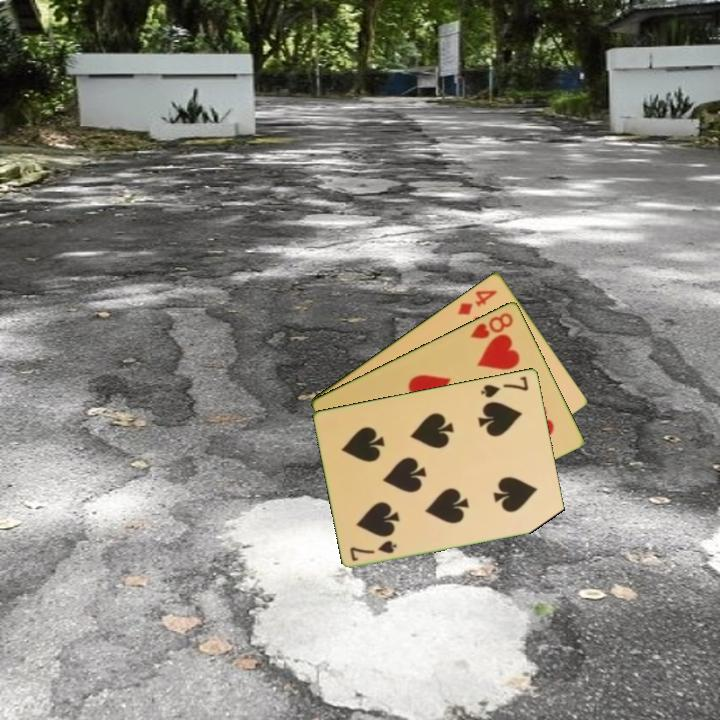4d: (454, 286, 501, 318)
7s: (346, 536, 400, 564), (478, 372, 531, 400)
8h: (467, 308, 516, 341)
